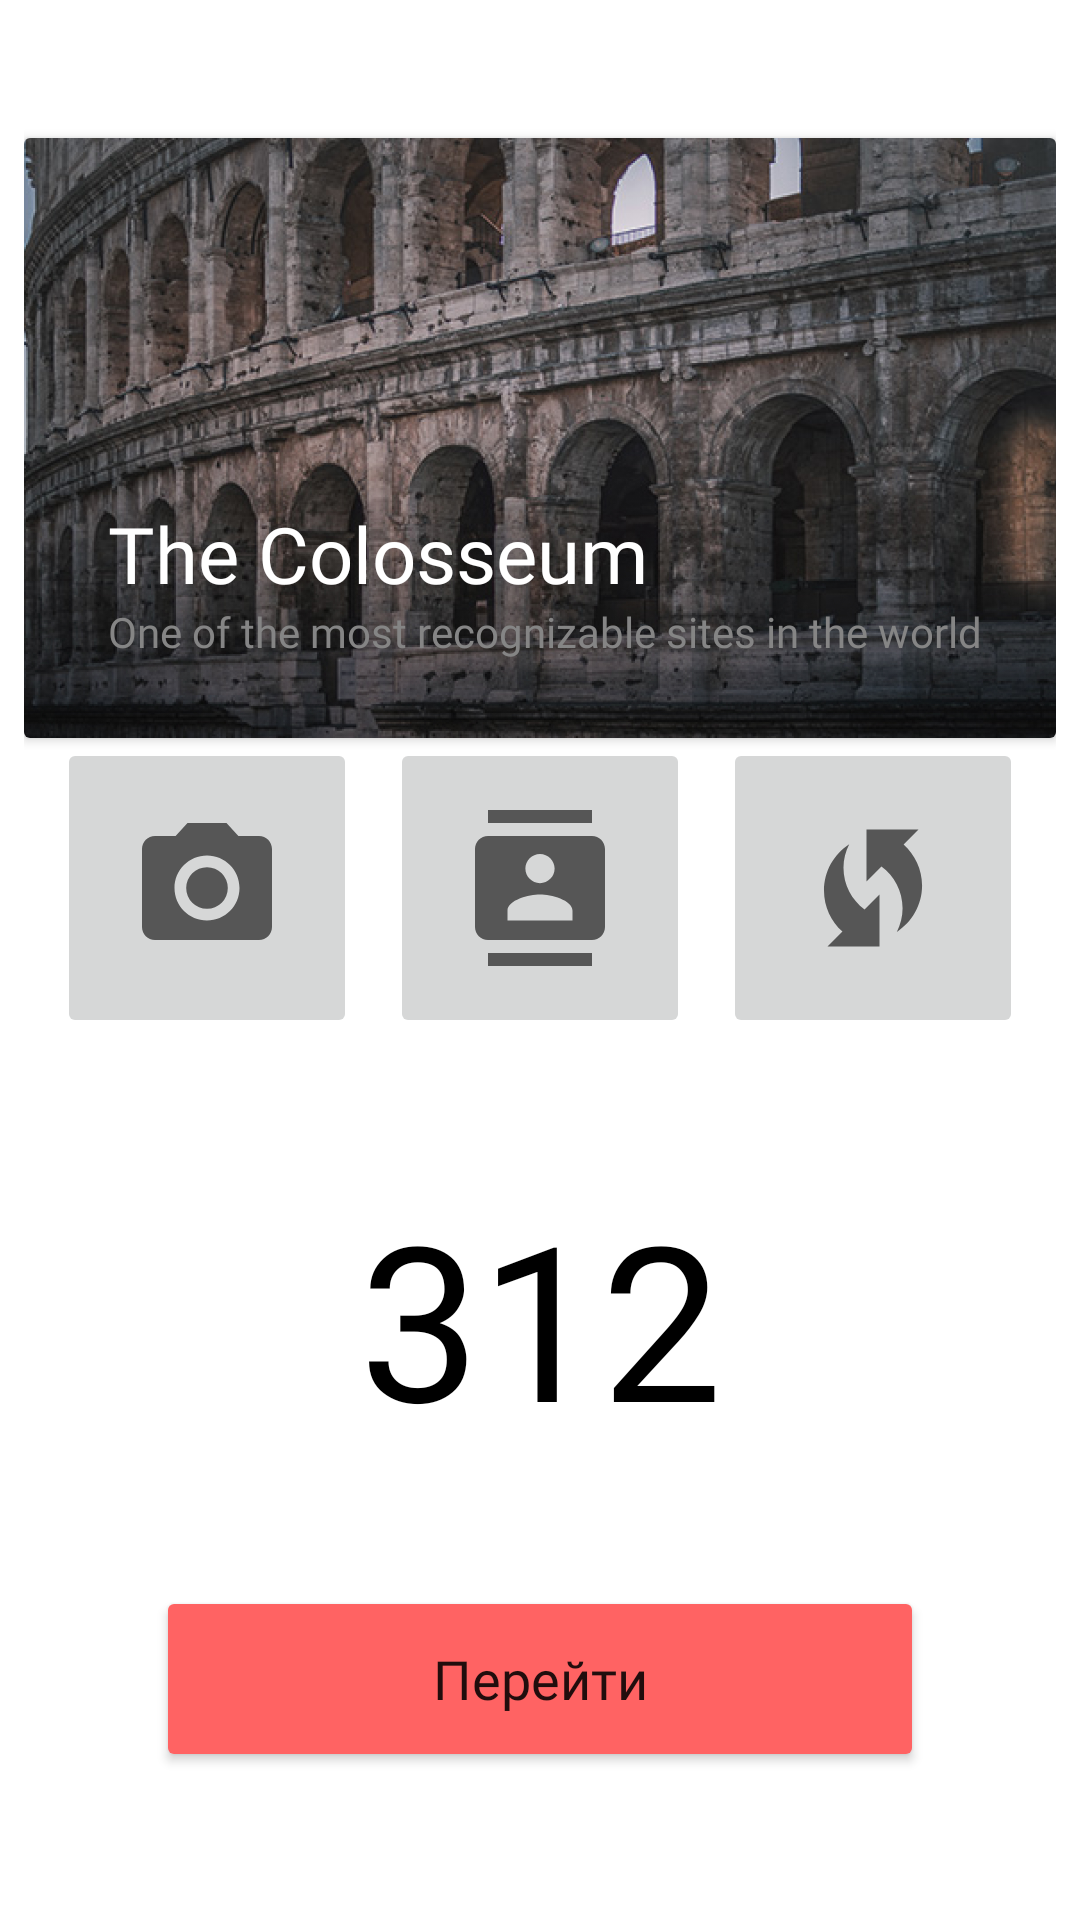

Where icons sit on this 1080w x 1920h app screen, as (x1, y1, x2, y2):
contacts: (402, 756, 678, 1020)
photo camera: (69, 756, 345, 1020)
wifi protected setup: (735, 756, 1011, 1020)
